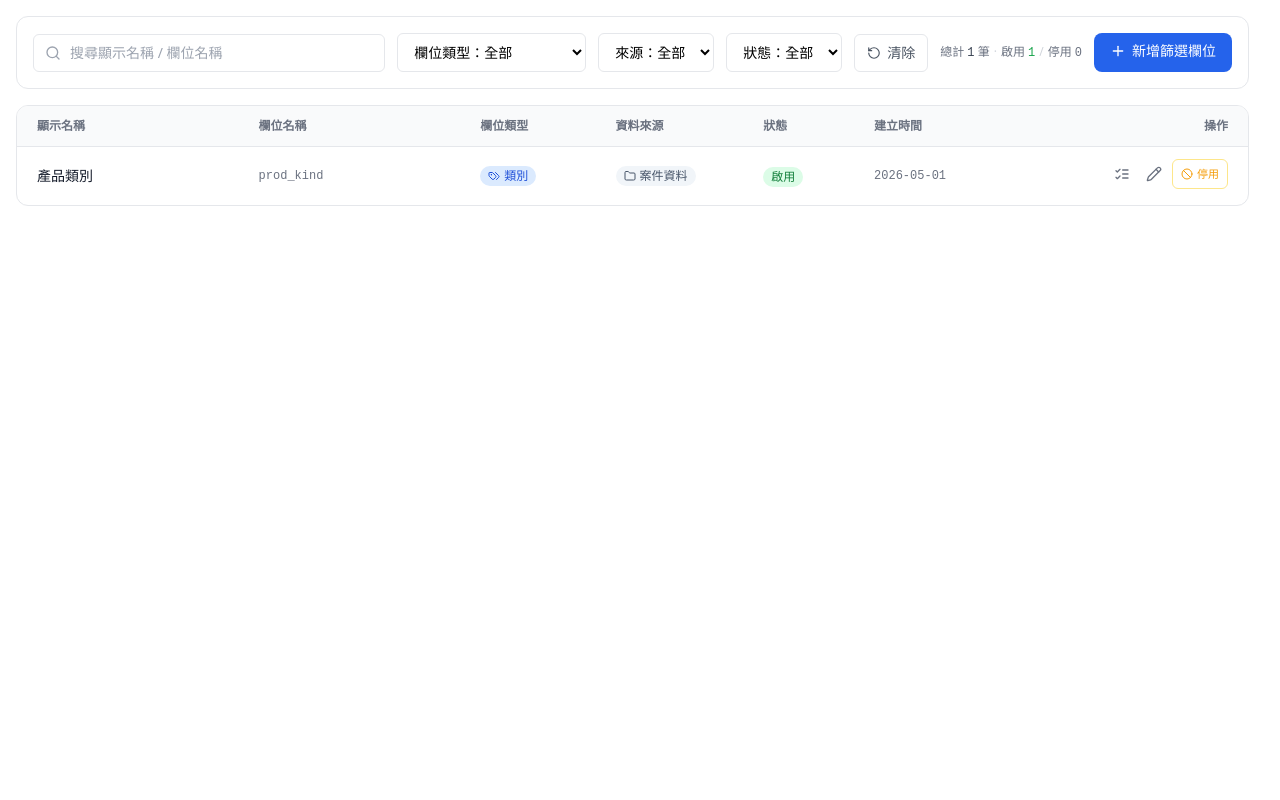
it: FieldsTab — Phase 5d 波 4 › fields-tab-9：無 ETL 描述的欄位不出現在選擇下拉（僅提供有描述欄位）
The width and height of the screenshot is (1280, 800).
Click the button with test id "btn-create-field" at (1163, 52), box [1094, 33, 1232, 72]
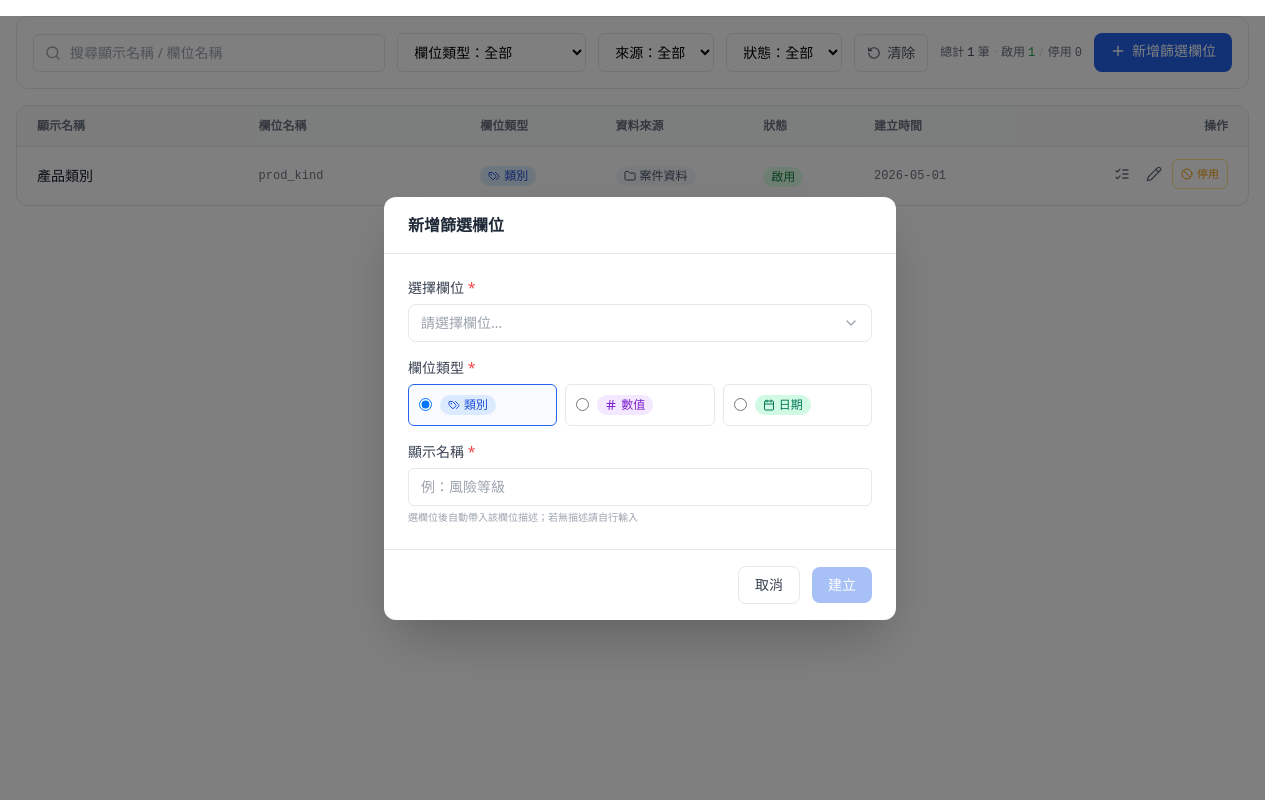
Click the button with test id "dropdown-column-name-trigger" at (462, 322), box [408, 304, 872, 342]
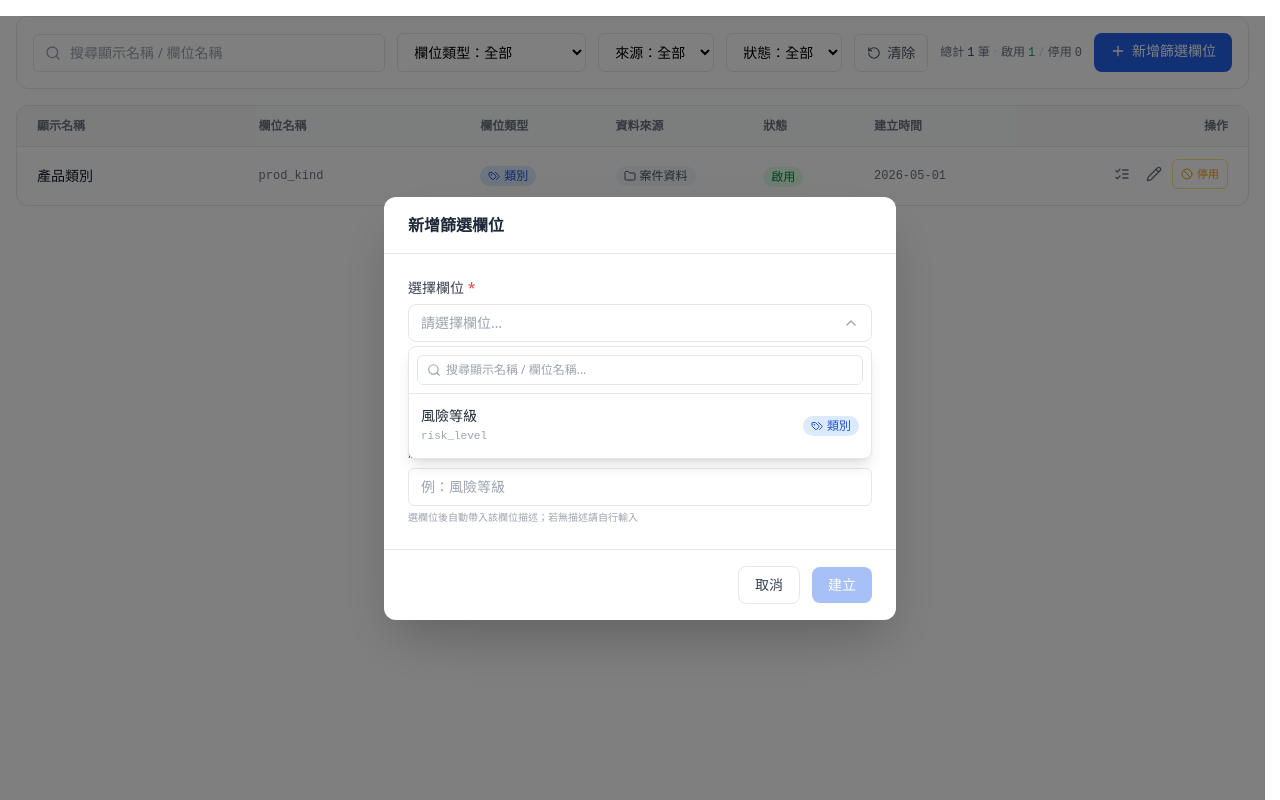
Check: the option with test id "dropdown-option-risk_level" is shown, box [409, 398, 871, 454]
